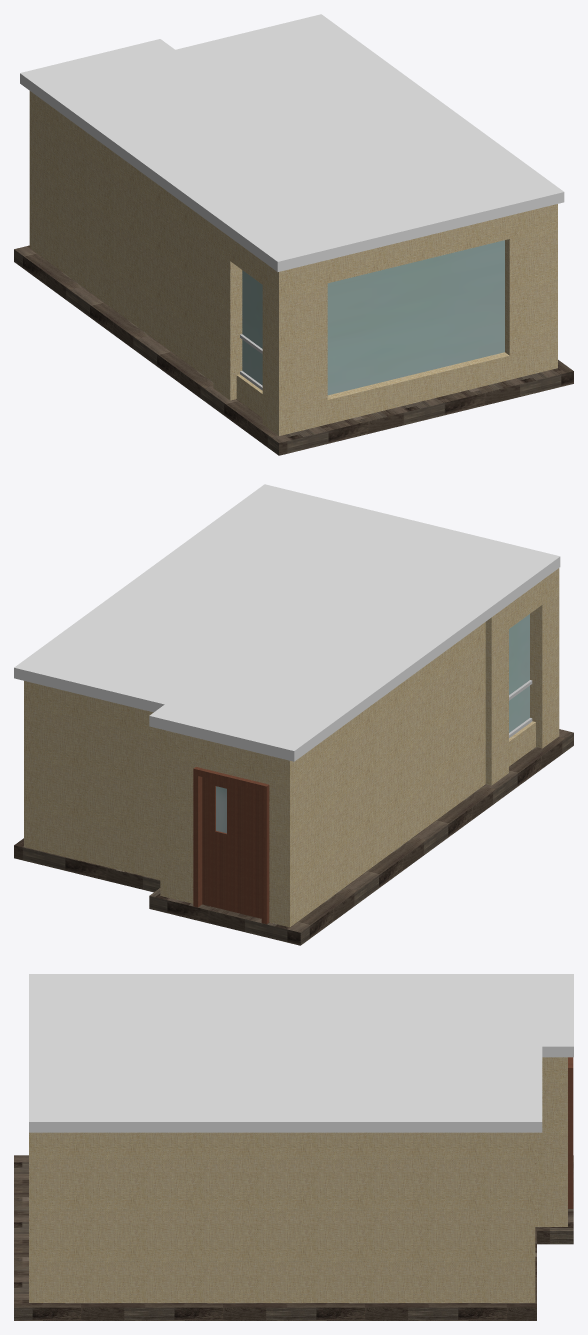
File: dadf.FBX
3 views of the same model, one above another, from view 1: azimuth 30°, elevation 25°; view 2: azimuth 150°, elevation 25°; view 3: azimuth 270°, elevation 25° (orthographic). The views are drawn at different scales.
Parts seen in each view (by area): view 1: fangding, qiangmian, ChuangBoli, Zhuwo_034_floor, XiaoBoliChuang; view 2: qiangmian, fangding, Zhuwo_034_floor, XiaoBoliChuang; view 3: qiangmian, fangding, Zhuwo_034_floor.
Boxes of the visible parts, x1,y1,x2,y2 form: fangding: [20, 14, 564, 271]; qiangmian: [29, 91, 557, 435]; ChuangBoli: [327, 240, 504, 395]; Zhuwo_034_floor: [14, 245, 573, 455]; XiaoBoliChuang: [242, 270, 262, 385]; qiangmian: [24, 568, 559, 927]; fangding: [14, 484, 560, 761]; Zhuwo_034_floor: [14, 729, 573, 945]; XiaoBoliChuang: [509, 614, 529, 732]; qiangmian: [29, 1057, 573, 1302]; fangding: [29, 974, 573, 1132]; Zhuwo_034_floor: [14, 1155, 573, 1320].
Size of the model in its own units: 5.07 by 3.08 by 7.89.
